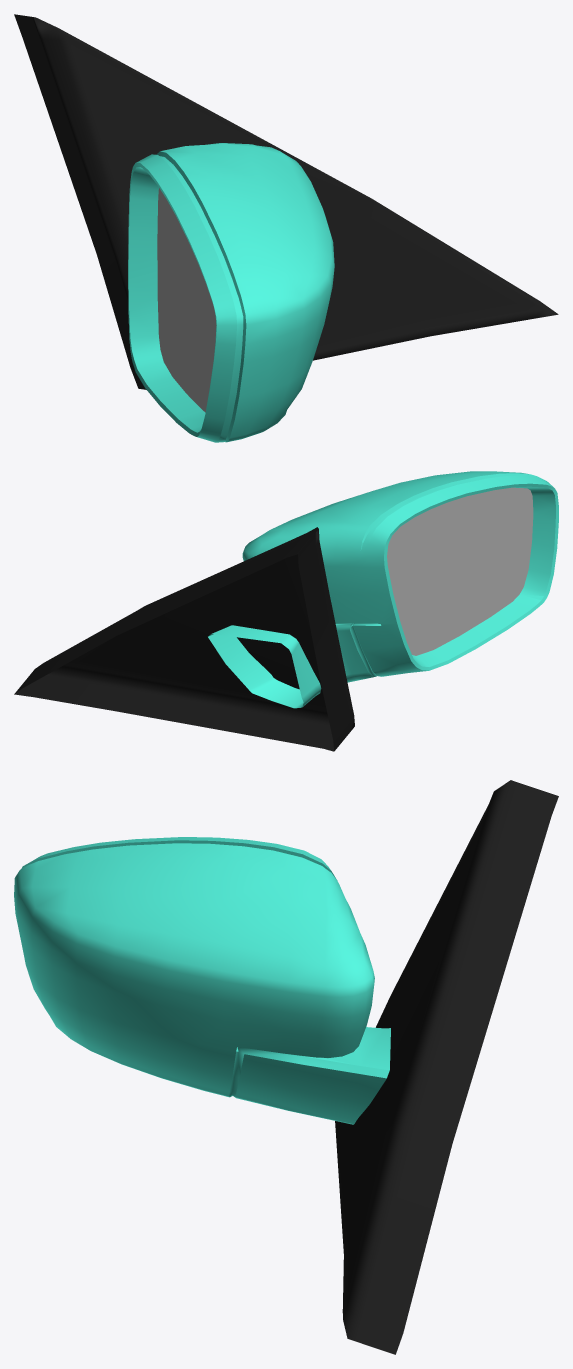
3 renders of one model, top to bottom at view 1: azimuth 30°, elevation 25°; view 2: azimuth 150°, elevation 25°; view 3: azimuth 270°, elevation 25°, orthographic. The views are drawn at different scales.
Parts seen in each view (by area): view 1: H025_10_281I_R_2_D_H025_10_281I_R, H025_10_281I_R_H025_10_281I_R_1_DaS, H025_10_281I_R_H025_10_281I_R_3_DTaSI, H025_10_281I_R_H025_10_281I_R_1_DaS_E; view 2: H025_10_281I_R_2_D_H025_10_281I_R, H025_10_281I_R_H025_10_281I_R_1_DaS, H025_10_281I_R_H025_10_281I_R_3_DTaSI, H025_10_281I_R_H025_10_281I_R_1_DaS_E; view 3: H025_10_281I_R_H025_10_281I_R_1_DaS, H025_10_281I_R_2_D_H025_10_281I_R, H025_10_281I_R_H025_10_281I_R_1_DaS_E.
Boxes of the visible parts, bbox=[...] form: H025_10_281I_R_2_D_H025_10_281I_R: bbox=[14, 14, 558, 389]; H025_10_281I_R_H025_10_281I_R_1_DaS: bbox=[128, 143, 334, 442]; H025_10_281I_R_H025_10_281I_R_3_DTaSI: bbox=[157, 188, 216, 412]; H025_10_281I_R_H025_10_281I_R_1_DaS_E: bbox=[128, 151, 246, 442]; H025_10_281I_R_2_D_H025_10_281I_R: bbox=[14, 527, 354, 751]; H025_10_281I_R_H025_10_281I_R_1_DaS: bbox=[208, 471, 555, 708]; H025_10_281I_R_H025_10_281I_R_3_DTaSI: bbox=[387, 487, 533, 655]; H025_10_281I_R_H025_10_281I_R_1_DaS_E: bbox=[208, 473, 558, 677]; H025_10_281I_R_H025_10_281I_R_1_DaS: bbox=[14, 837, 390, 1124]; H025_10_281I_R_2_D_H025_10_281I_R: bbox=[335, 780, 558, 1354]; H025_10_281I_R_H025_10_281I_R_1_DaS_E: bbox=[21, 840, 389, 1097].
Size of the model in its own units: 34.06 by 23.09 by 31.76.
